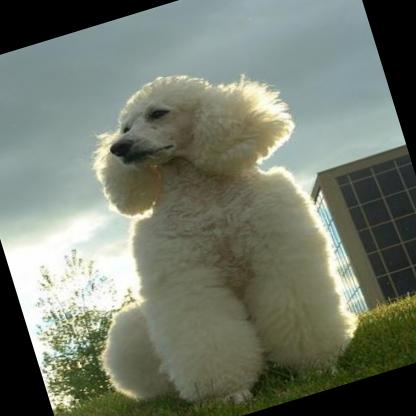standard_poodle: (20, 40, 368, 416)
